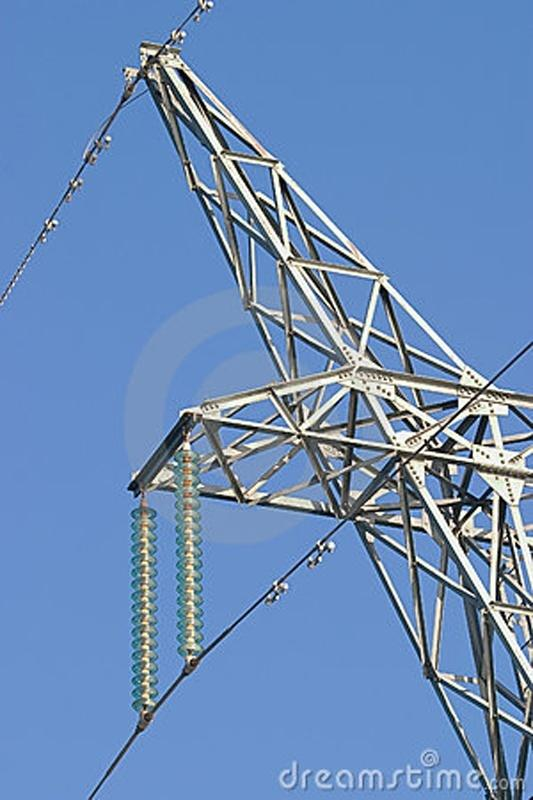power_tower: (20, 14, 528, 766)
